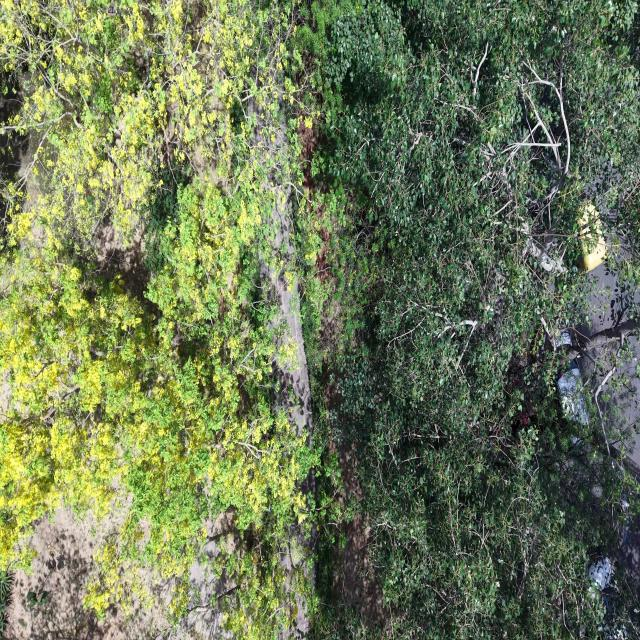DRY_AREA: (3, 508, 237, 639), (5, 509, 167, 639)
VEGETATION_TREE: (0, 0, 639, 638), (305, 2, 639, 638), (0, 0, 316, 636), (0, 571, 12, 634)
